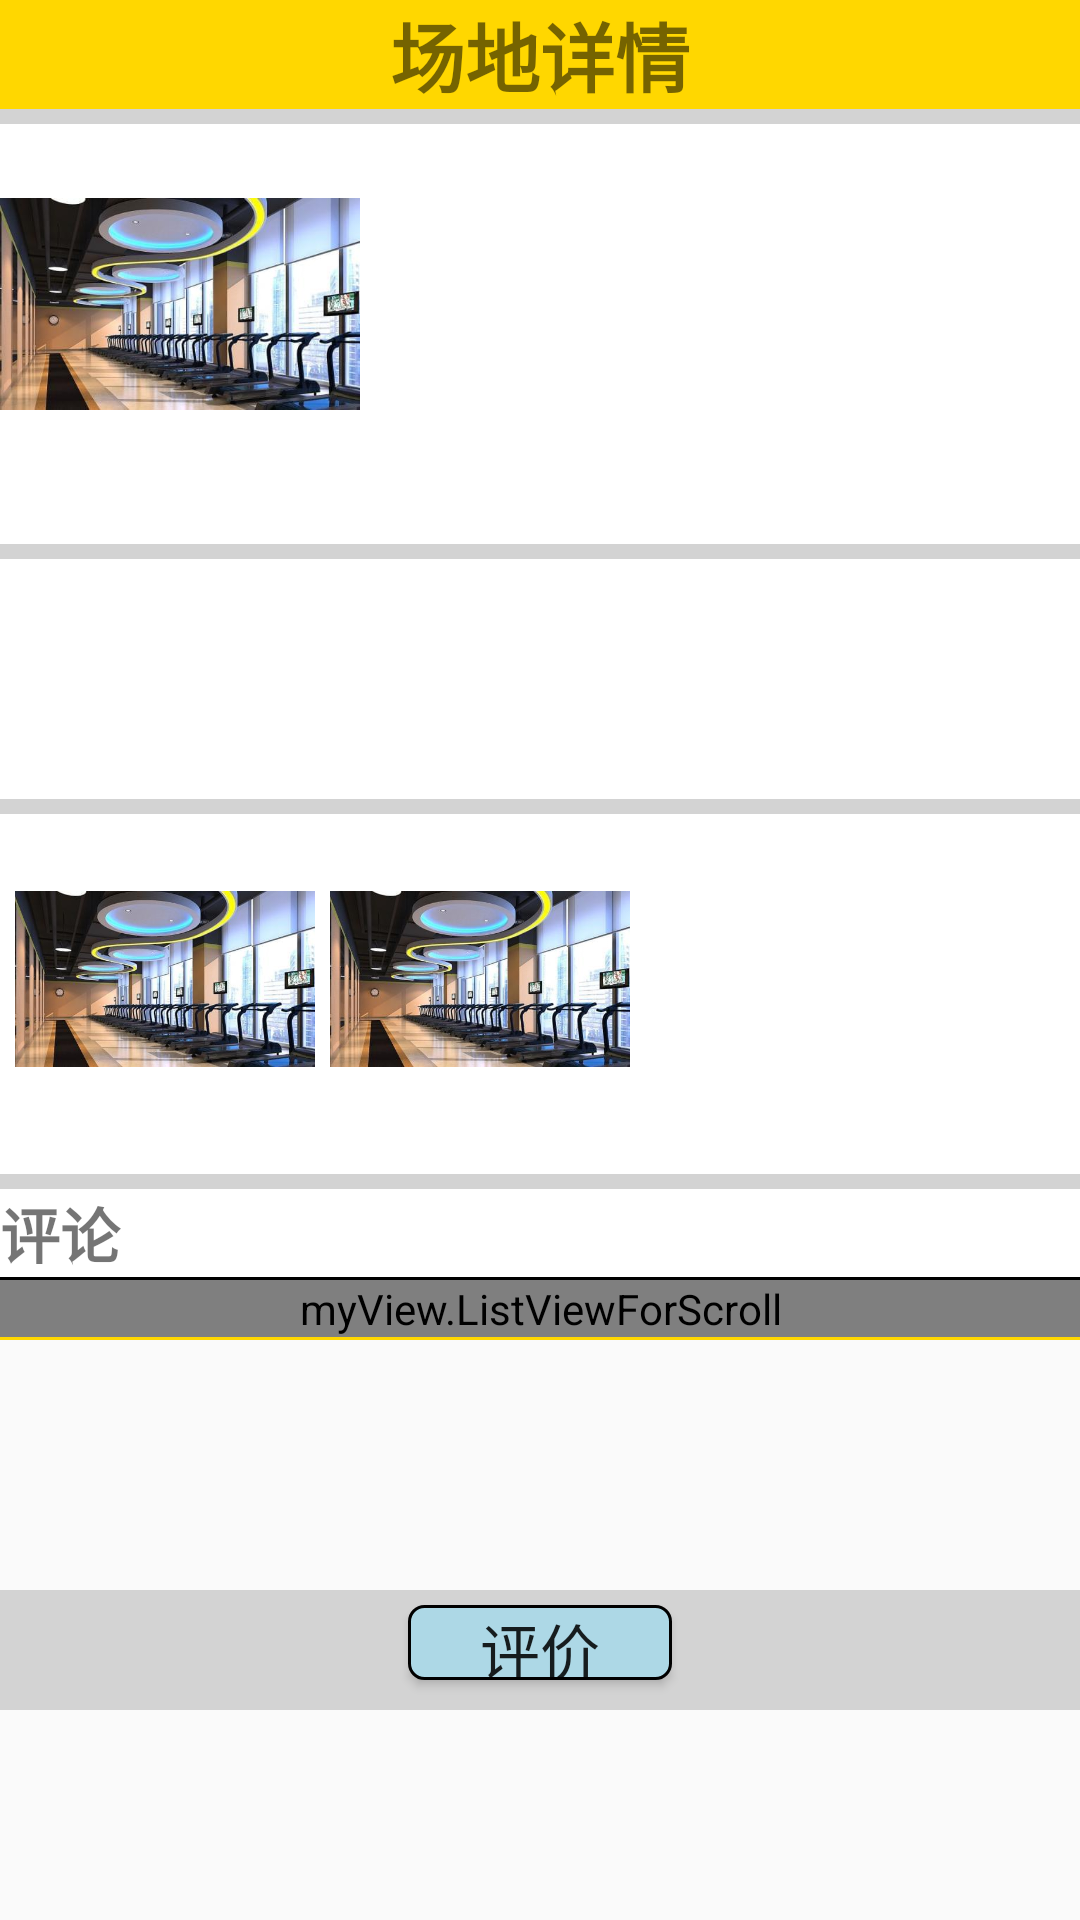

Icon click points for this 1080x1920 phone screenshot, format [x,y]:
gym: [180,304], [165,979], [480,979]
